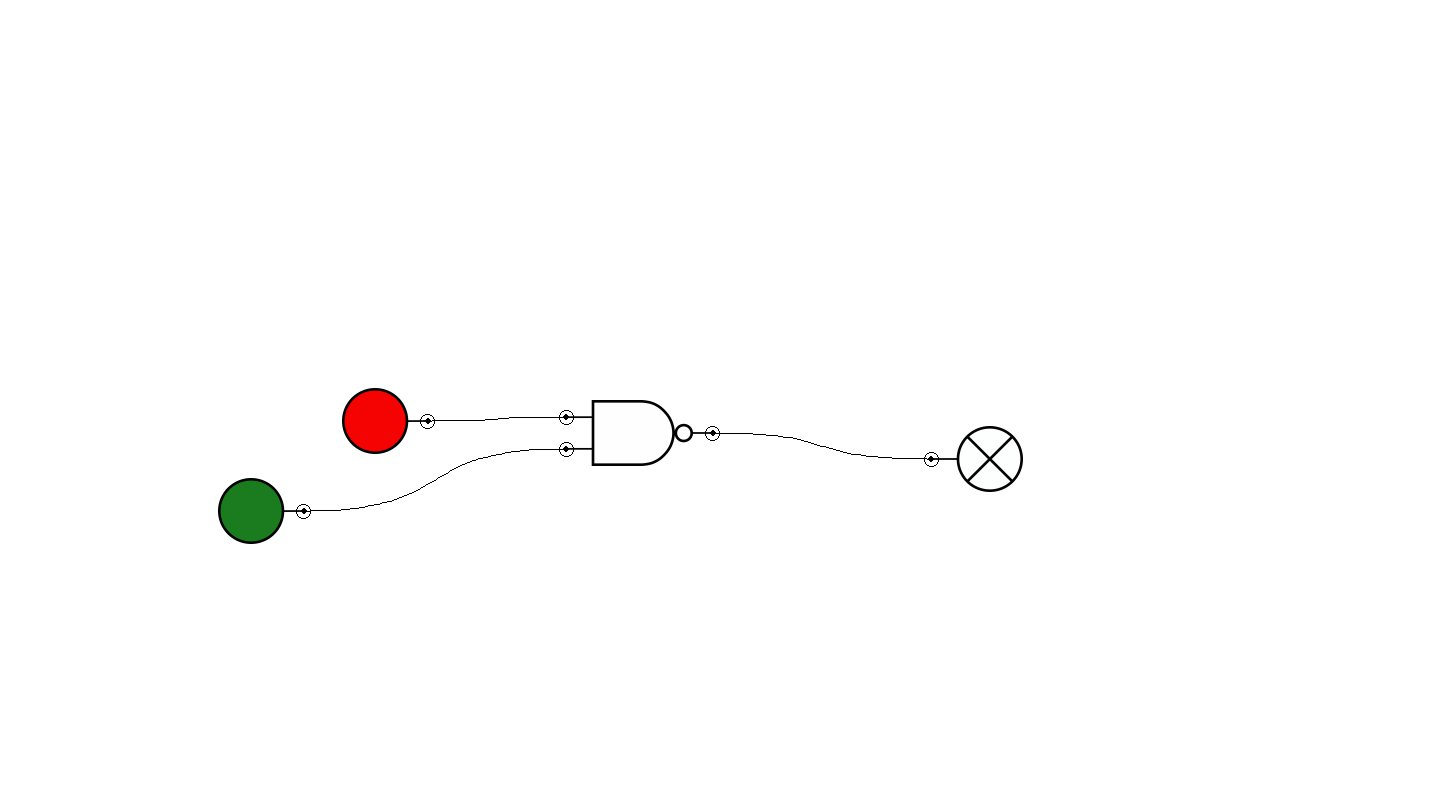bulb: (924, 426, 1023, 492)
nand: (559, 400, 720, 466)
switch_False: (342, 388, 435, 454)
switch_True: (218, 478, 311, 544)
